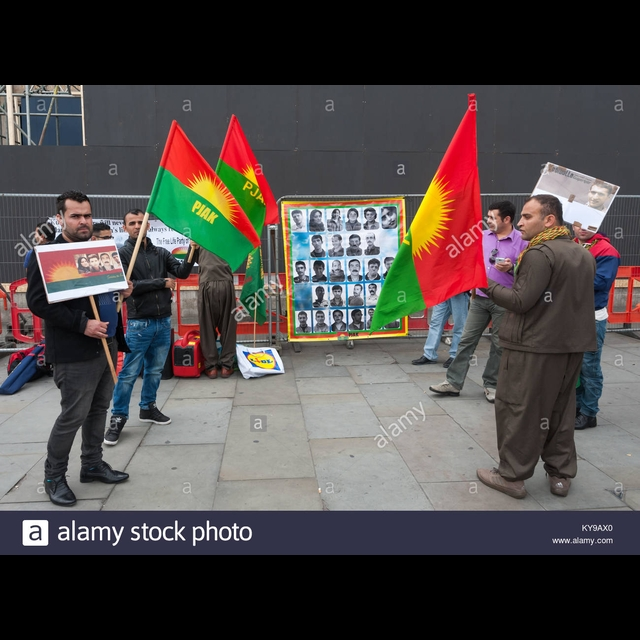PJAK: (179, 166, 238, 238), (236, 157, 268, 209)
